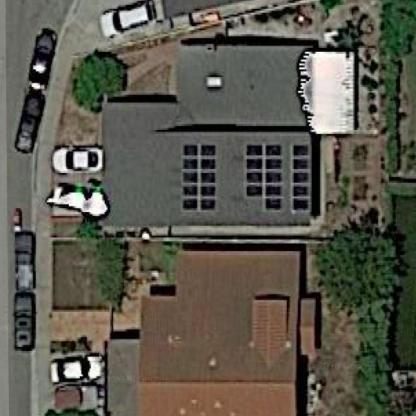car: (95, 1, 167, 42), (10, 89, 46, 156), (45, 349, 110, 384), (13, 220, 42, 298), (57, 139, 108, 175), (32, 26, 58, 90), (9, 294, 36, 353)
solar_panel: (238, 133, 288, 215), (179, 134, 221, 224), (291, 137, 311, 218)
